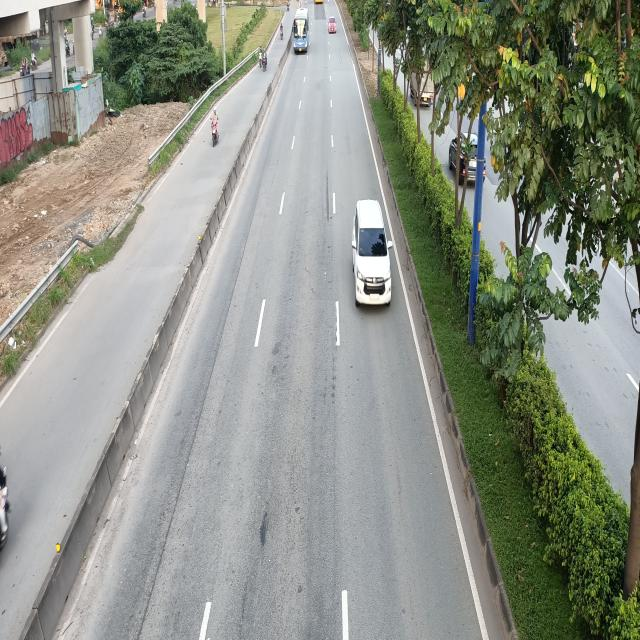car: (350, 198, 392, 307)
coach: (291, 9, 309, 55)
